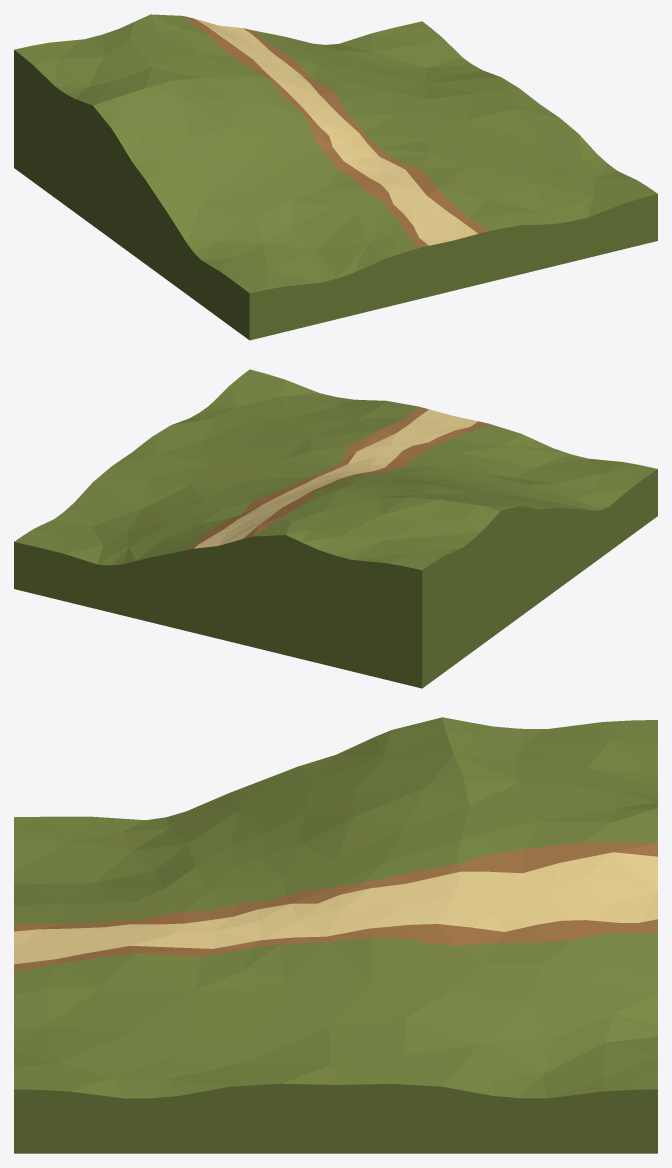
File: Terrian_Road_Straight_HillCorner-01.fbx
The picture shows the model from 3 angles, top to bottom: view 1: azimuth 30°, elevation 25°; view 2: azimuth 150°, elevation 25°; view 3: azimuth 270°, elevation 25°; orthographic projection. The views are drawn at different scales.
Visible parts, largest first — view 1: Terrian_Road_Straight_HillCorner-01; view 2: Terrian_Road_Straight_HillCorner-01; view 3: Terrian_Road_Straight_HillCorner-01.
Part boxes in pixels (x1,y1,x2,y2): Terrian_Road_Straight_HillCorner-01: (14,14,657,340); Terrian_Road_Straight_HillCorner-01: (14,369,657,688); Terrian_Road_Straight_HillCorner-01: (14,717,657,1153).
Size of the model in its own units: 3600 by 1021 by 3600.
1 material, 1 textured.
